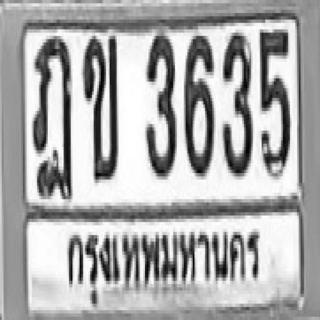A02: (81, 33, 117, 176)
A14: (31, 33, 72, 196)
N03: (143, 31, 175, 172), (221, 29, 251, 173)
N05: (258, 26, 288, 173)
N06: (184, 32, 212, 173)
P04: (63, 218, 266, 306)
